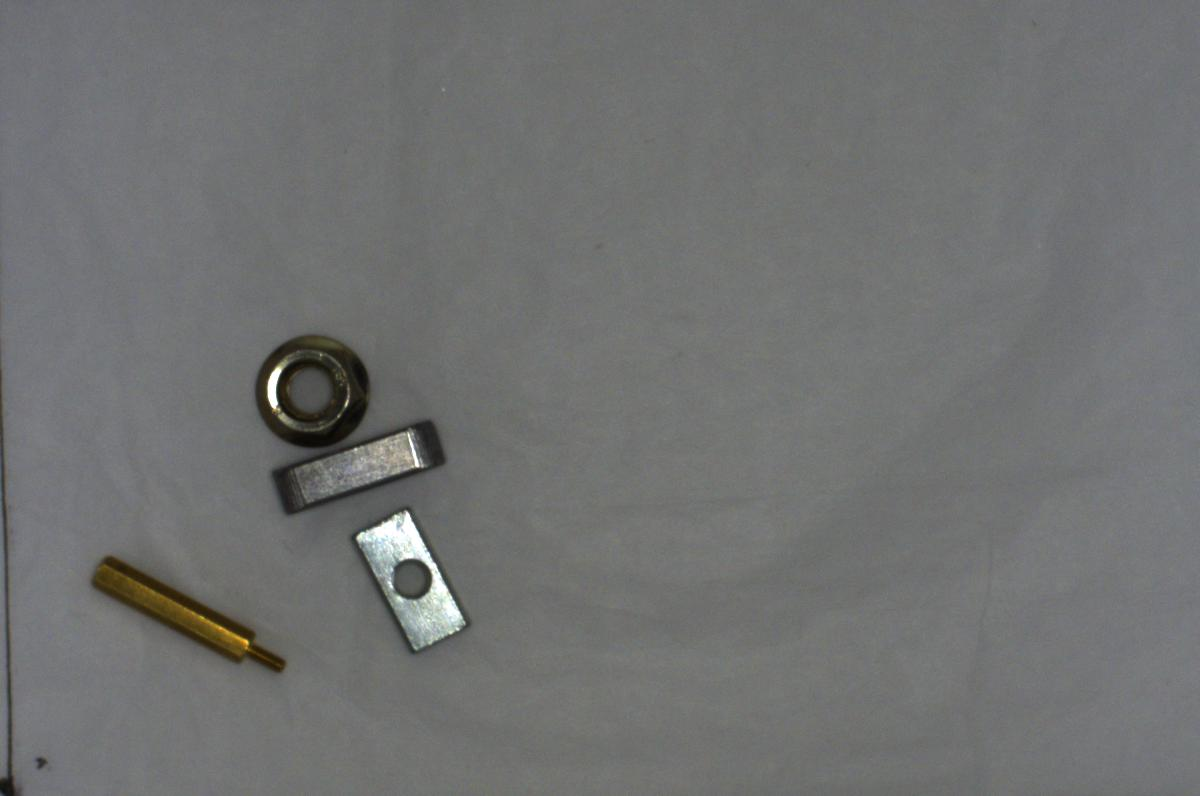Flange nut: (245, 327, 374, 449)
Hexagon pillar: (78, 548, 302, 689)
Keybar: (266, 421, 445, 516)
Rectangular nut: (344, 509, 472, 658)
